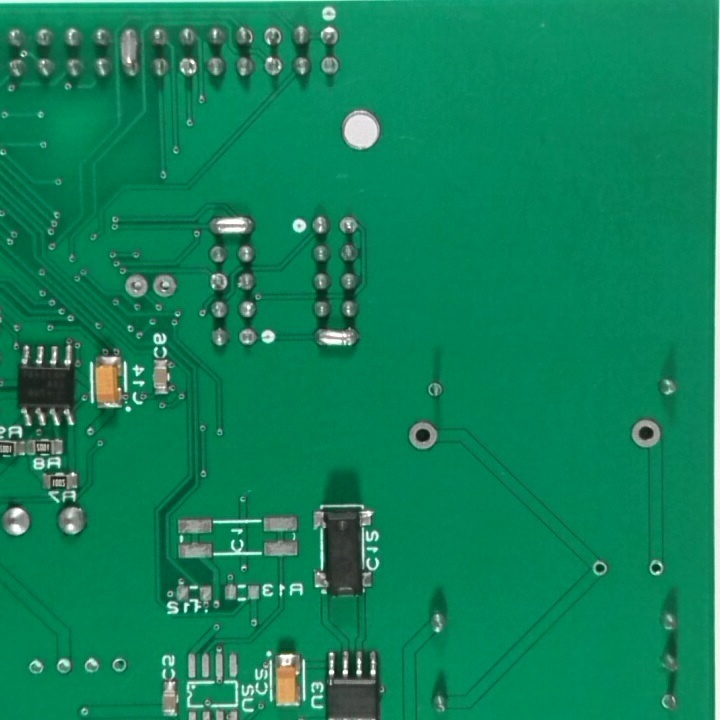F: (406, 418, 442, 452), (630, 417, 663, 449), (150, 271, 178, 302), (123, 274, 150, 303), (657, 690, 681, 716), (316, 27, 343, 49), (261, 26, 285, 50), (82, 654, 104, 679), (338, 216, 361, 239), (25, 656, 46, 680), (239, 326, 260, 349), (180, 55, 200, 79), (208, 272, 230, 293), (54, 657, 75, 679), (647, 557, 667, 580), (426, 380, 447, 401), (110, 653, 130, 675), (592, 558, 607, 580)
P: (117, 23, 144, 85), (310, 323, 361, 353), (205, 212, 259, 238)
